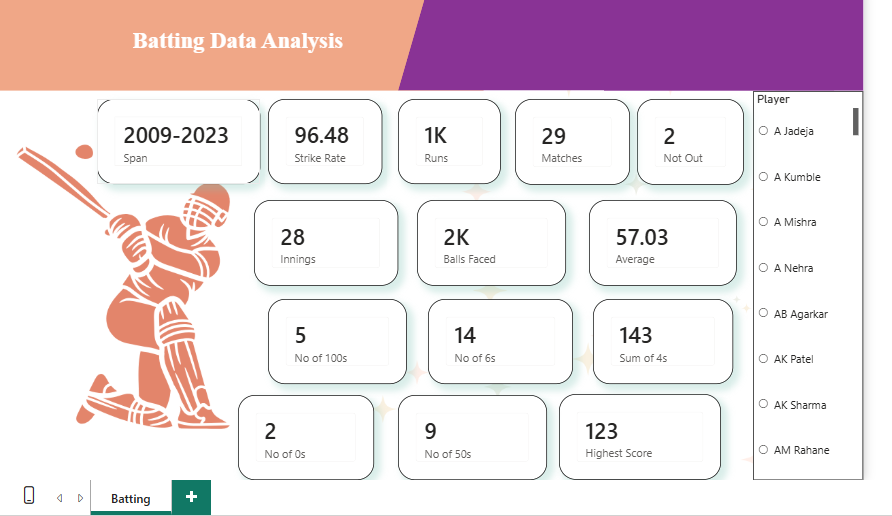

What the dashboard file says about the page in this screenshot:
{"tool":"powerbi","page":{"name":"Batting","canvas":[1280,720],"ordinal":0},"visuals":[{"type":"shape","box":[0,0,722.9,133.7],"z":0},{"type":"shape","box":[624.5,0,655.3,133.7],"z":1},{"type":"shape","box":[1071.2,0,208.7,133.7],"z":2},{"type":"listSlicer","fields":{"Values":["Cricket Data.Player "]},"box":[1118.2,148.4,161.6,571.6],"z":5},{"type":"cardVisual","fields":{"Data":["Min(Cricket Data.Span )"]},"box":[166,148.4,239.5,122],"z":6},{"type":"cardVisual","fields":{"Data":["Sum(Cricket Data.SR )"]},"box":[415.8,148.4,167.5,122],"z":7},{"type":"cardVisual","fields":{"Data":["Sum(Cricket Data.RunsDescending )"]},"box":[596.6,148.4,151.3,122],"z":8},{"type":"cardVisual","fields":{"Data":["Sum(Cricket Data.NO )"]},"box":[947.8,148.4,152.8,122],"z":9},{"type":"cardVisual","fields":{"Data":["Sum(Cricket Data.Mat )"]},"box":[770,148.4,166,122],"z":10},{"type":"cardVisual","fields":{"Data":["Sum(Cricket Data.Inns )"]},"box":[385,286.5,211.6,126.4],"z":11},{"type":"cardVisual","fields":{"Data":["Min(Cricket Data.HS )"]},"box":[817,581.9,238,126.4],"z":12},{"type":"cardVisual","fields":{"Data":["Sum(Cricket Data.BF )"]},"box":[634.8,286.5,218.9,126.4],"z":13},{"type":"cardVisual","fields":{"Data":["Sum(Cricket Data.Ave )"]},"box":[883.1,286.5,217.5,126.4],"z":14},{"type":"cardVisual","fields":{"Data":["Sum(Cricket Data.100)"]},"box":[405.6,434.9,204.2,124.9],"z":15},{"type":"cardVisual","fields":{"Data":["Sum(Cricket Data.50)"]},"box":[583.3,581.9,218.9,124.9],"z":16},{"type":"cardVisual","fields":{"Data":["Sum(Cricket Data.6s)"]},"box":[640.7,434.9,213.1,124.9],"z":17},{"type":"cardVisual","fields":{"Data":["Sum(Cricket Data.4s )"]},"box":[883.1,434.9,205.7,124.9],"z":18},{"type":"cardVisual","fields":{"Data":["Sum(Cricket Data.0)"]},"box":[361.5,581.9,199.8,124.9],"z":19}]}

Visuals, with their boxes in screenshot pixels (x1, y1, x2, y2):
shape: 0 0 478 87
shape: 411 0 861 87
shape: 718 0 861 87
listSlicer - Cricket Data.Player : 750 97 861 490
cardVisual - Min(Cricket Data.Span ): 96 97 260 181
cardVisual - Sum(Cricket Data.SR ): 267 97 382 181
cardVisual - Sum(Cricket Data.RunsDescending ): 391 97 495 181
cardVisual - Sum(Cricket Data.NO ): 633 97 738 181
cardVisual - Sum(Cricket Data.Mat ): 511 97 625 181
cardVisual - Sum(Cricket Data.Inns ): 246 192 391 279
cardVisual - Min(Cricket Data.HS ): 543 395 706 482
cardVisual - Sum(Cricket Data.BF ): 418 192 568 279
cardVisual - Sum(Cricket Data.Ave ): 588 192 738 279
cardVisual - Sum(Cricket Data.100): 260 294 400 380
cardVisual - Sum(Cricket Data.50): 382 395 533 481
cardVisual - Sum(Cricket Data.6s): 422 294 568 380
cardVisual - Sum(Cricket Data.4s ): 588 294 730 380
cardVisual - Sum(Cricket Data.0): 230 395 367 481
